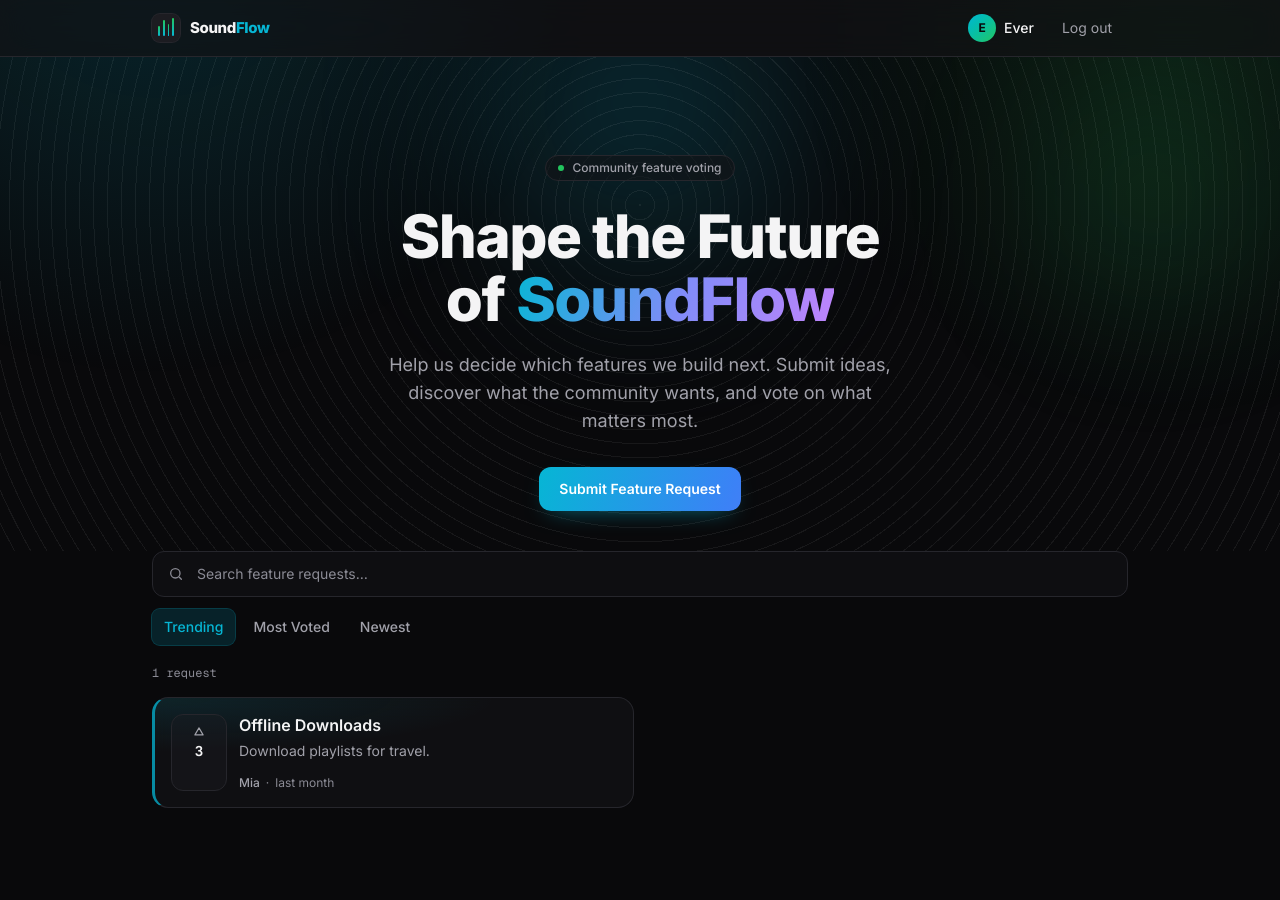
App › optimistically increments the vote count when an authenticated user votes
The width and height of the screenshot is (1280, 900).
Click the button named "vote for this request". click: click(199, 752)
box: [171, 714, 227, 791]
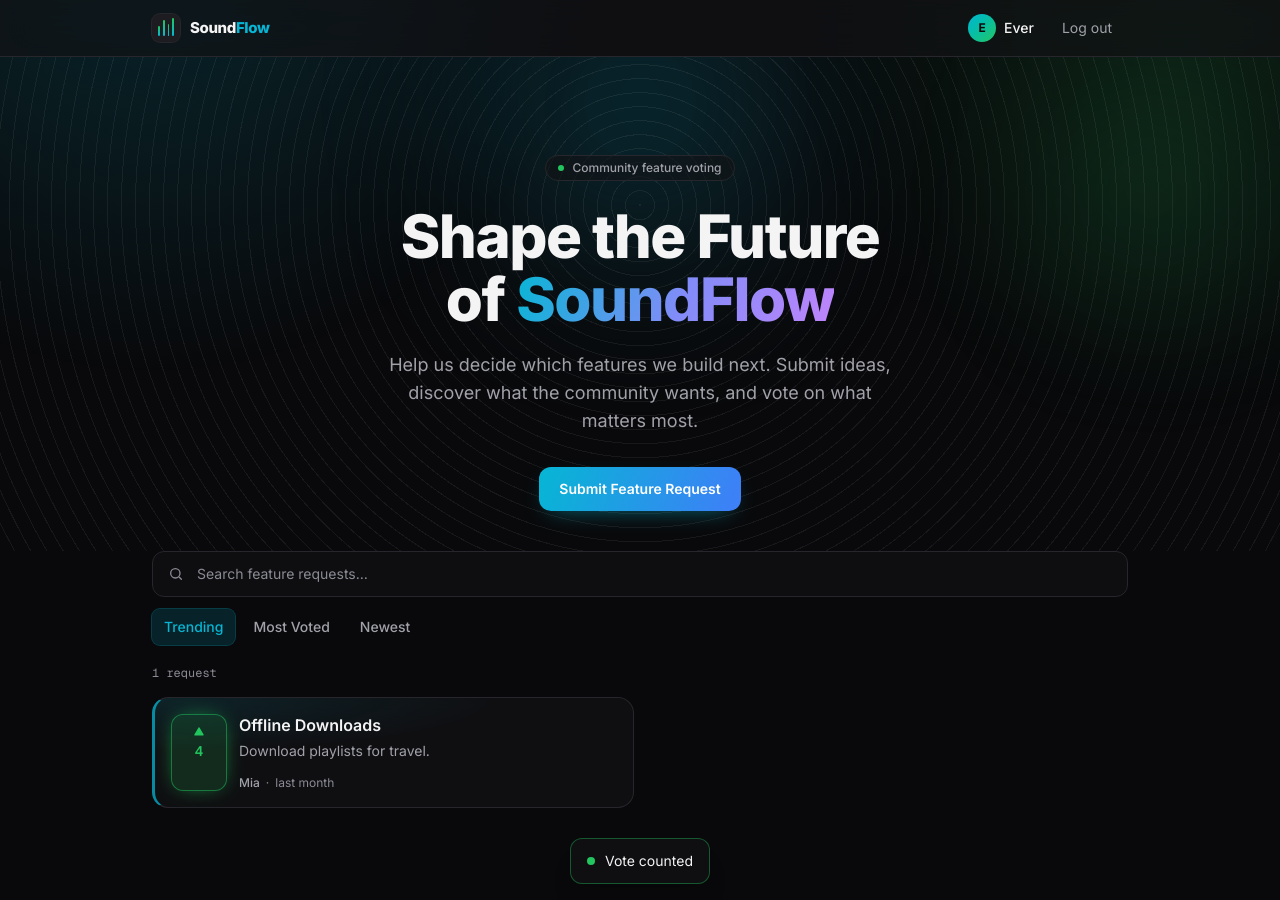
Result: the button named "voted" reads "4" at [171, 714, 227, 791]
